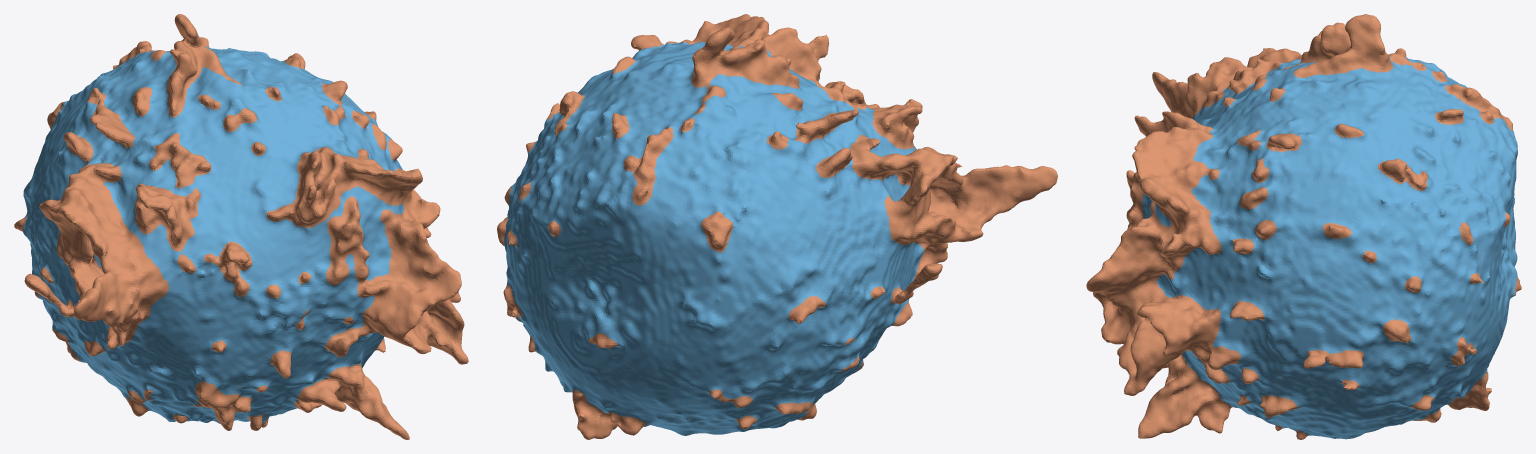
The picture shows the model from 3 angles, left to right: view 1: azimuth 30°, elevation 25°; view 2: azimuth 150°, elevation 25°; view 3: azimuth 270°, elevation 25°; orthographic projection. The views are drawn at different scales.
Size of the model in its own units: 182 by 162 by 164.
